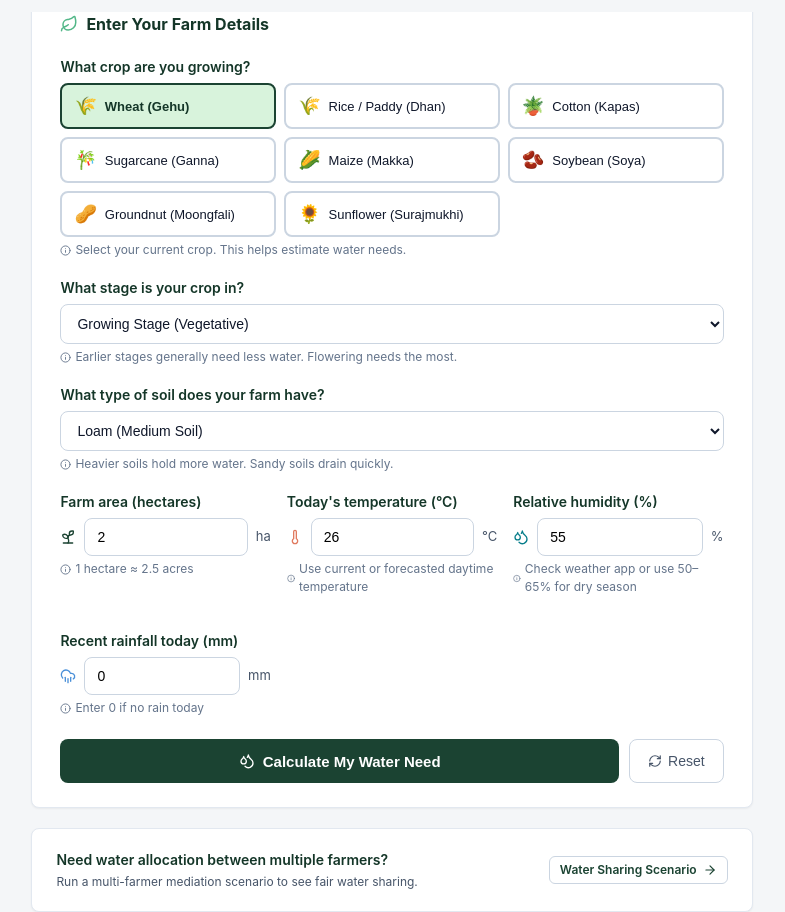
Test: FarmerPortalPage & Phase 14 Farmer Route Flow › submits valid inputs to prediction API and displays result card correctly
The width and height of the screenshot is (785, 912).
(page scrolled)
Note: Select Cotton
Click the button "🪴 Cotton (Kapas)" at (616, 106), box [508,83,724,129]
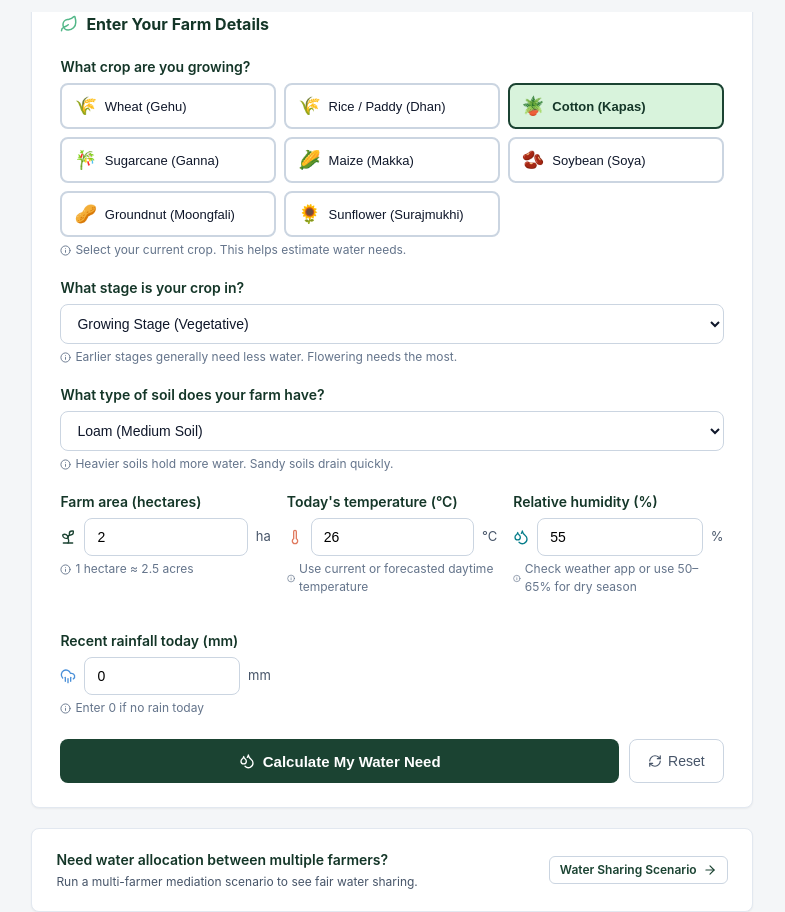
Note: Set area to 3.0
Replace the text in the number field labelled "Farm area (hectares)" with "3.0" at (166, 537), box [84,518,248,556]
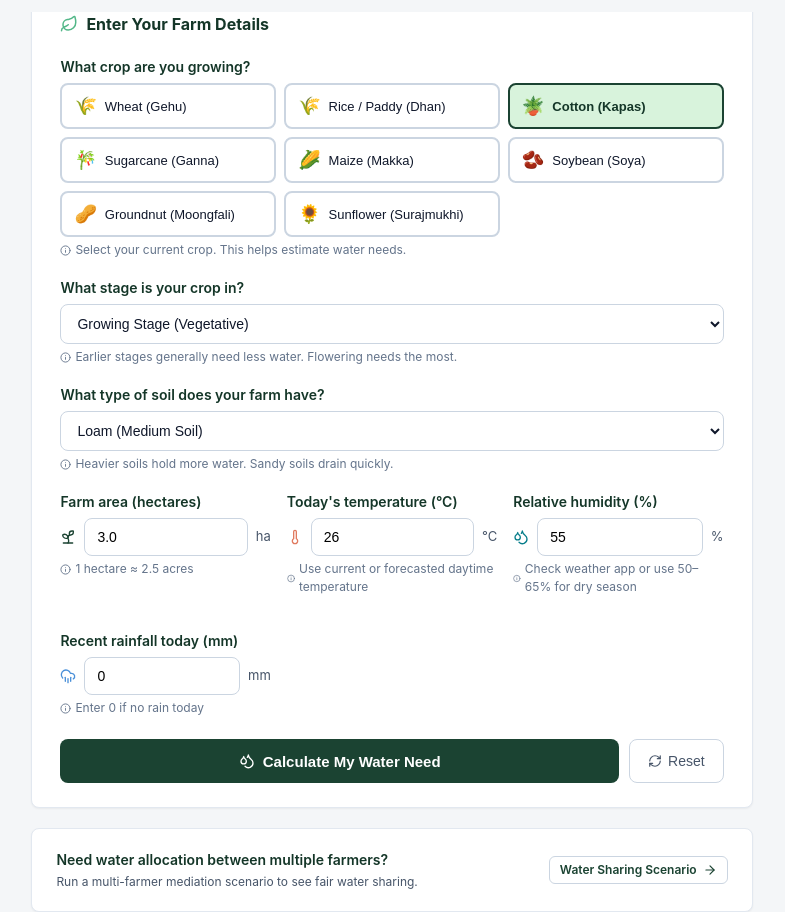
Note: Click submit
Click the button "Calculate My Water Need" at (340, 761), box [60,739,619,783]
(page scrolled)
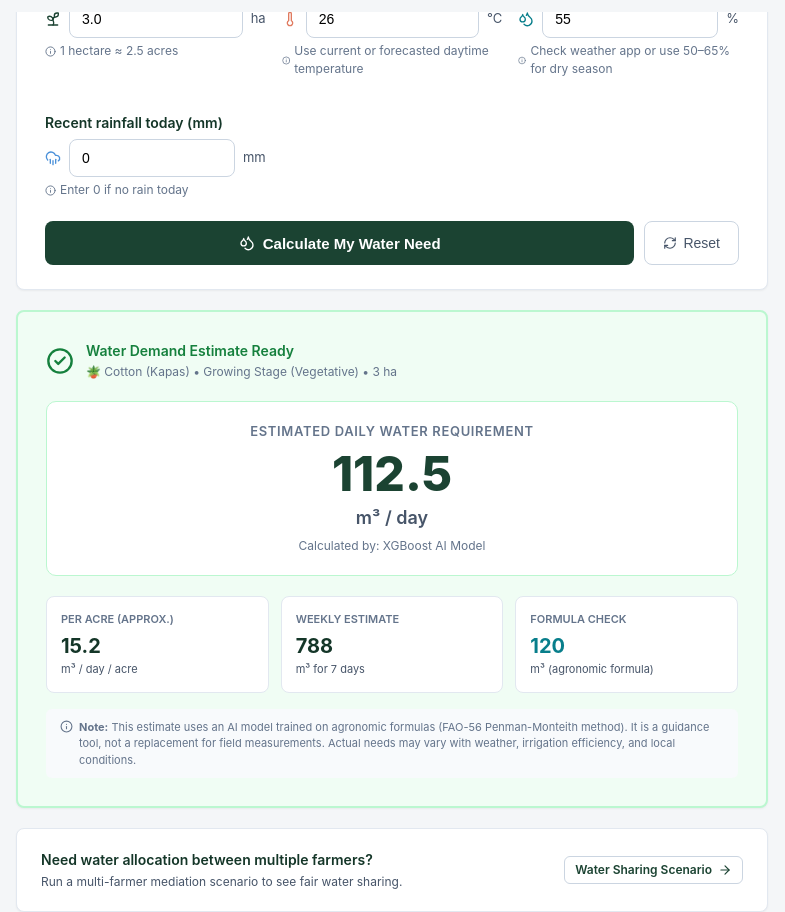
Result: the text "Water Demand Estimate Ready" is shown at [86,342,294,359]
Result: the text "112.5" is shown at [332,444,452,502]
Result: the text "m³ / day" is shown at [356,506,428,528]
